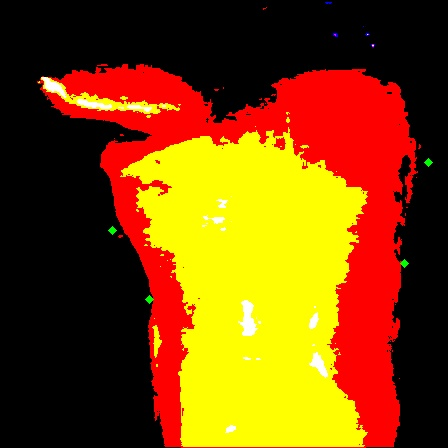coin_1: (149, 299, 169, 319)
coin_2: (112, 230, 132, 250)
coin_3: (404, 263, 424, 283)
coin_4: (428, 162, 448, 182)
